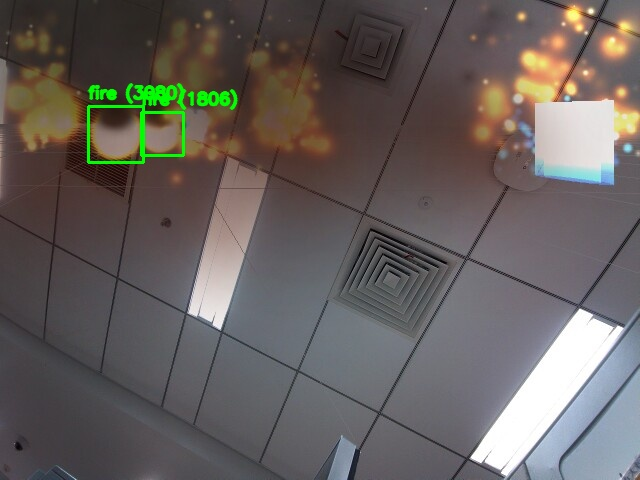fire: (88, 106, 143, 162), (141, 112, 183, 155)
